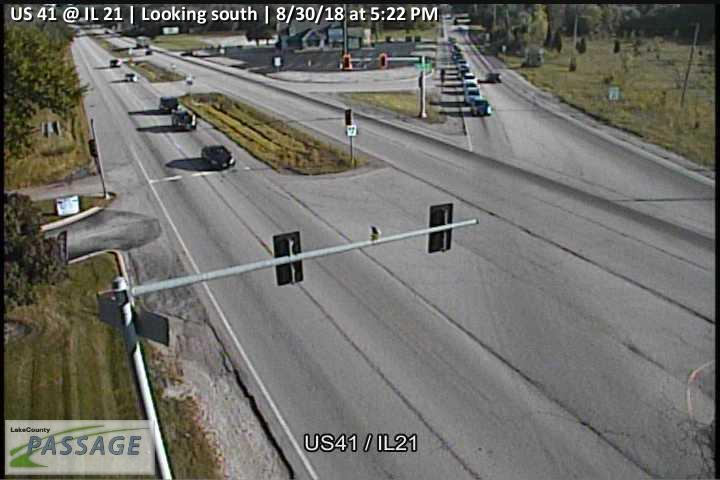SUV: (158, 95, 180, 114), (465, 88, 483, 103), (462, 71, 477, 82)
Sedan: (200, 143, 236, 170), (170, 110, 198, 133), (470, 99, 491, 116), (484, 70, 503, 84), (124, 71, 139, 83), (109, 58, 122, 68), (463, 82, 479, 88)
Truck: (134, 34, 150, 49)
